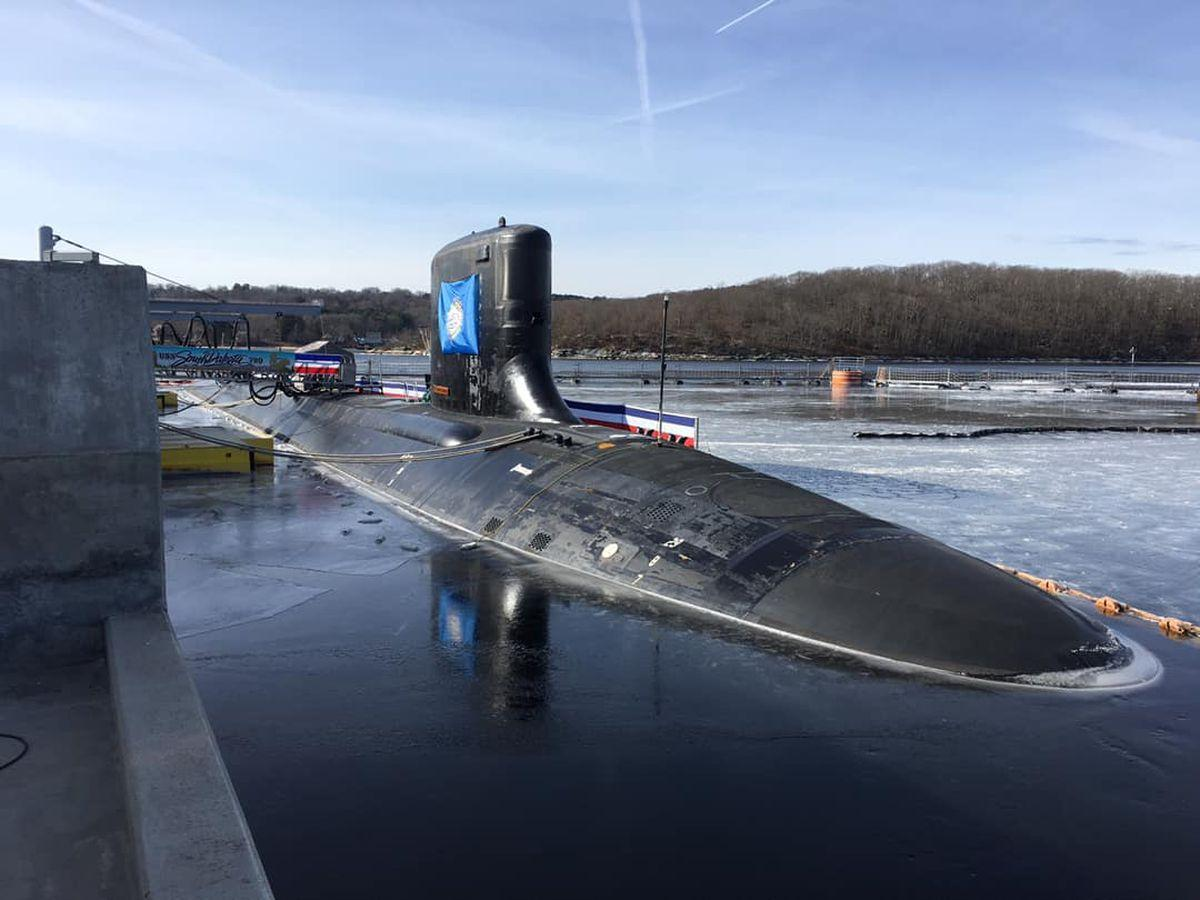Submarine: (145, 148, 1200, 802)
